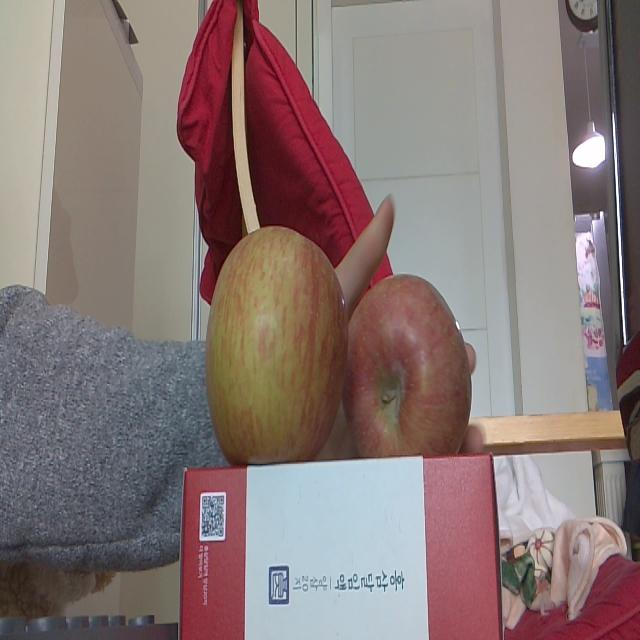apple: (208, 221, 346, 465), (349, 272, 473, 455)
